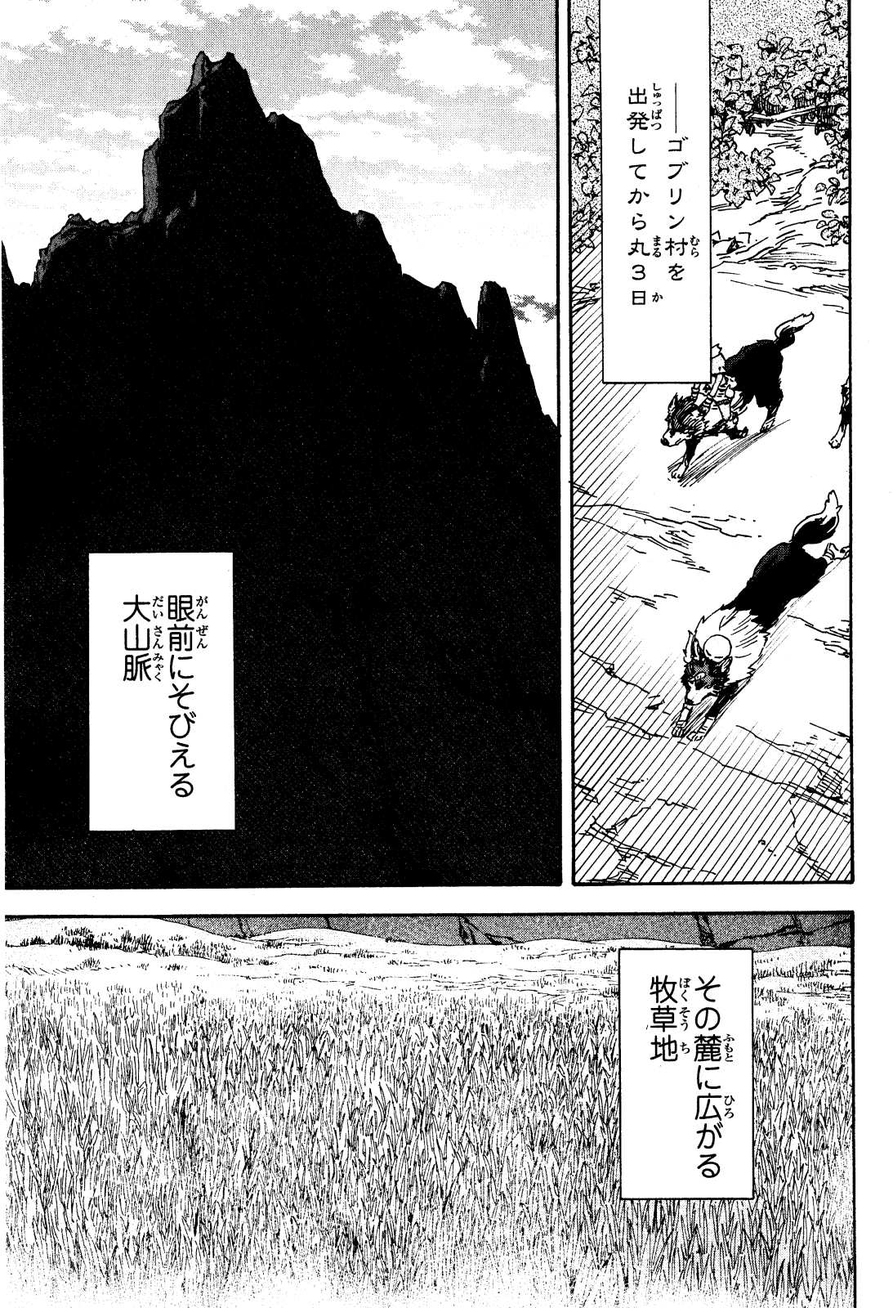bubbles: (596, 1, 717, 388), (83, 547, 241, 836), (614, 943, 757, 1207)
